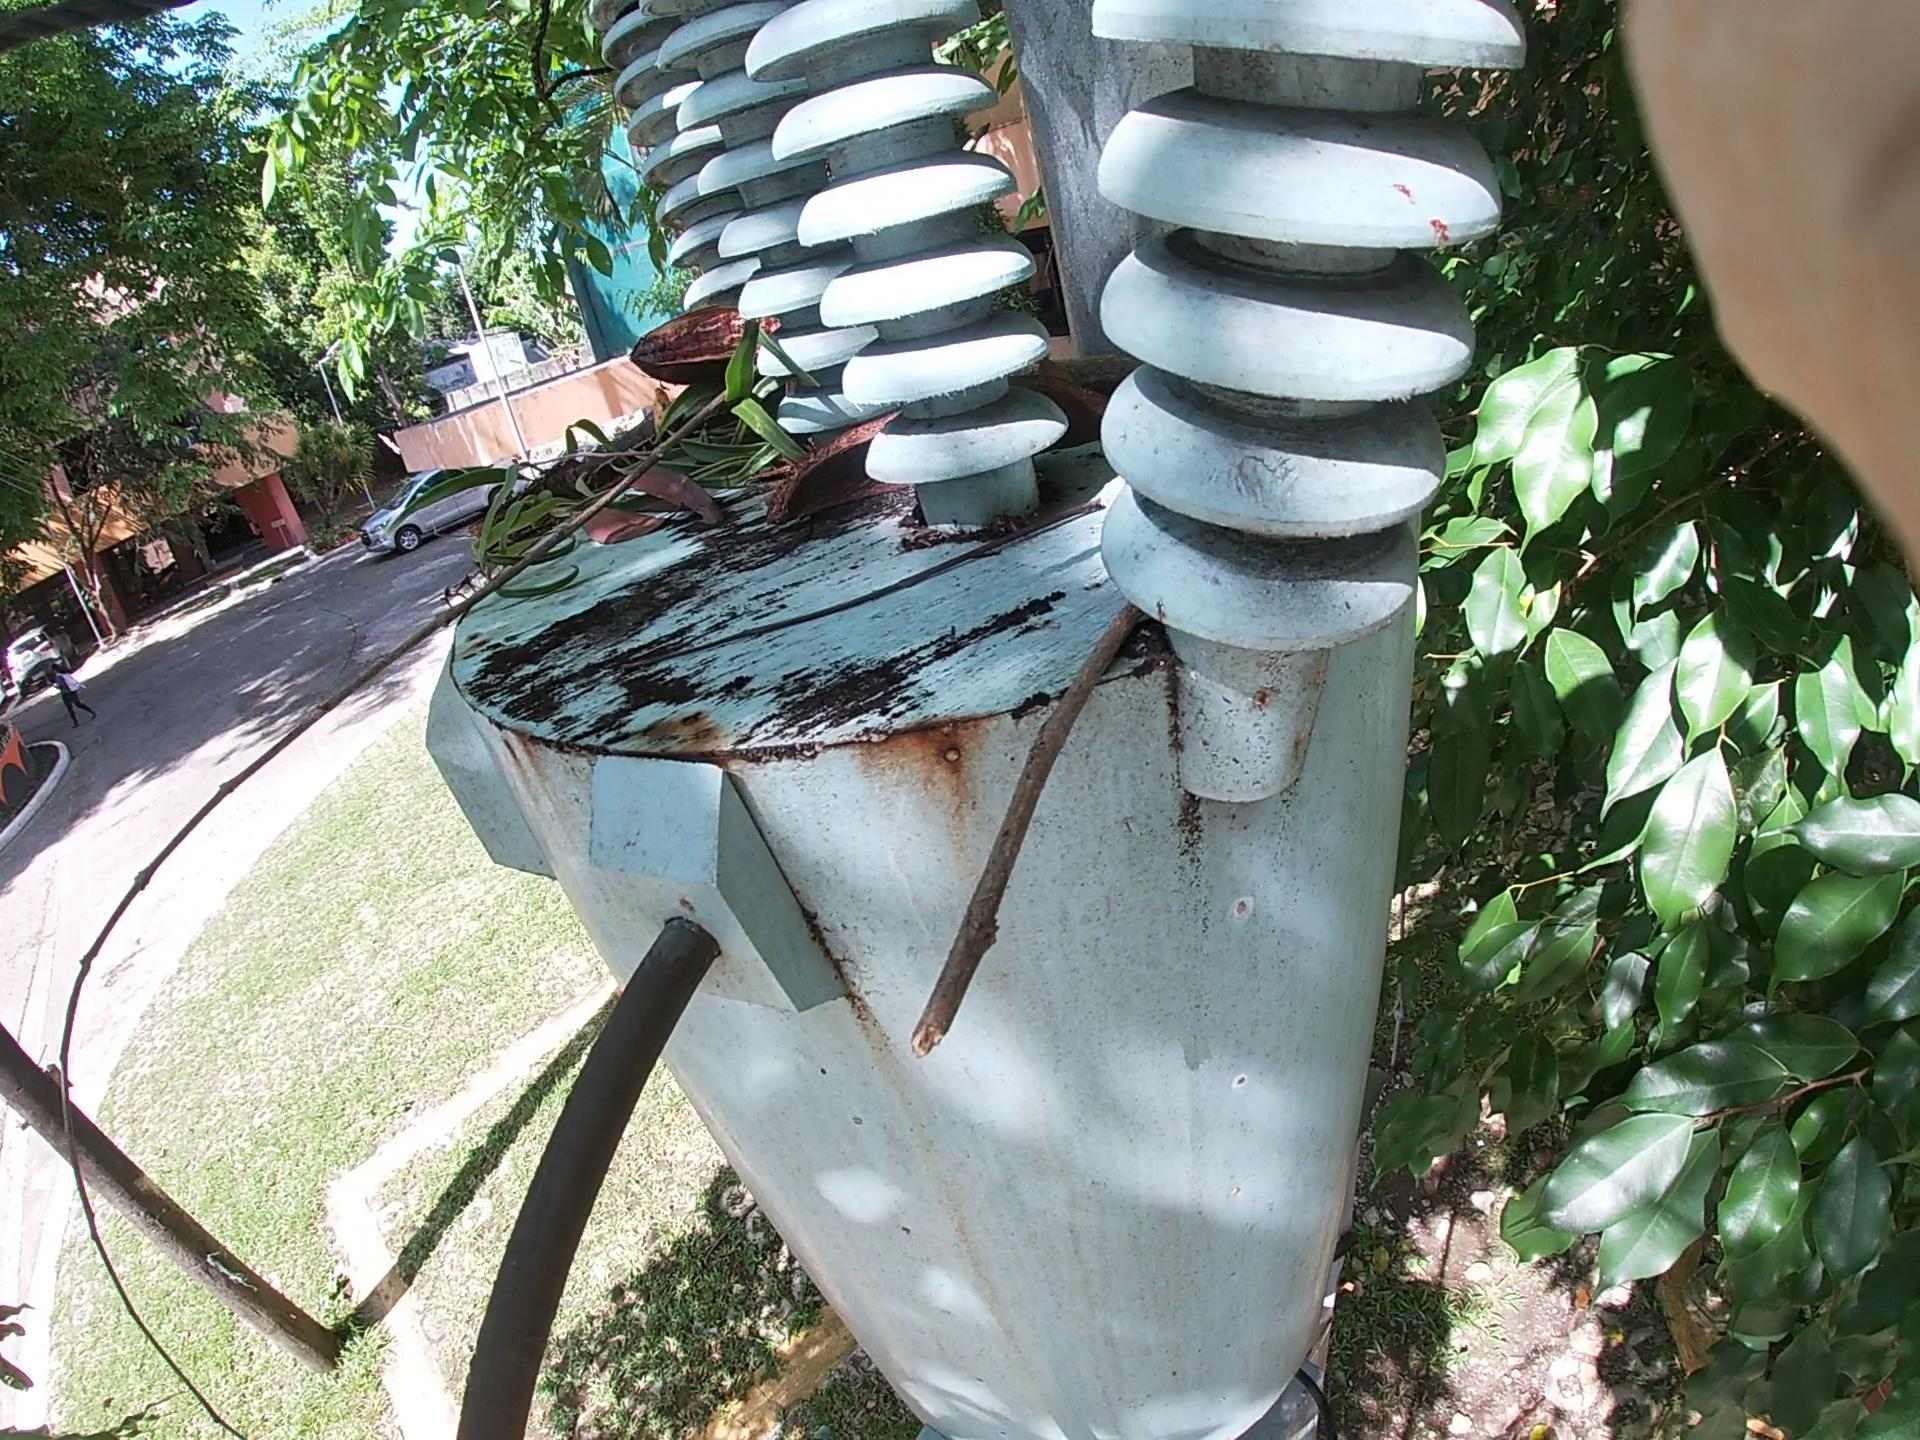branch with leaves: (274, 106, 934, 655)
leaf: (576, 427, 750, 560)
mahogany fruit: (562, 244, 782, 393), (770, 421, 958, 555)
tree branch: (2, 371, 770, 1175), (717, 405, 1150, 669), (948, 597, 1166, 1024)
